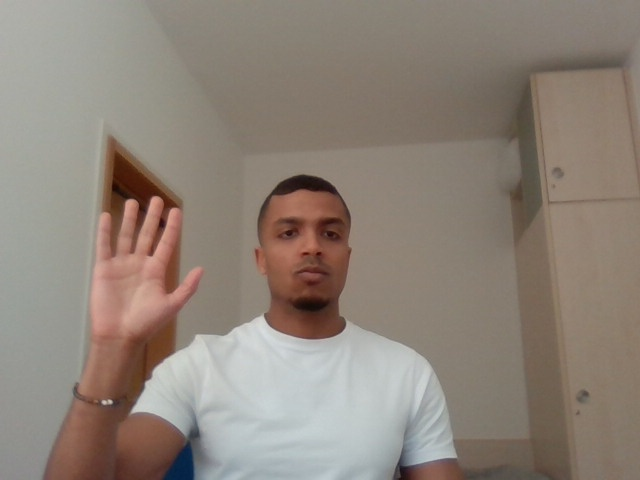hello: (76, 183, 219, 362)
